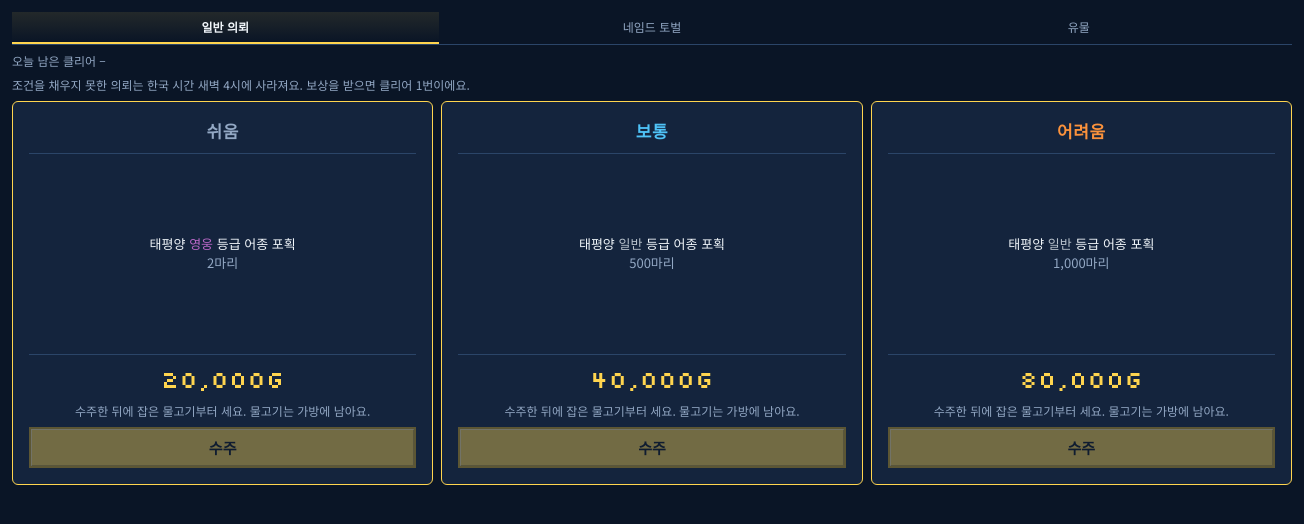
Test: BountyPanel › 흔적(도전권)이 있으면 네임드 카드에 상태 한 줄만 보이고 도전 버튼은 없다 — 도전은 바다에서 치른다
The image size is (1304, 524).
Click the button "네임드 토벌".
click(652, 28)  # box 439,12 -> 865,44
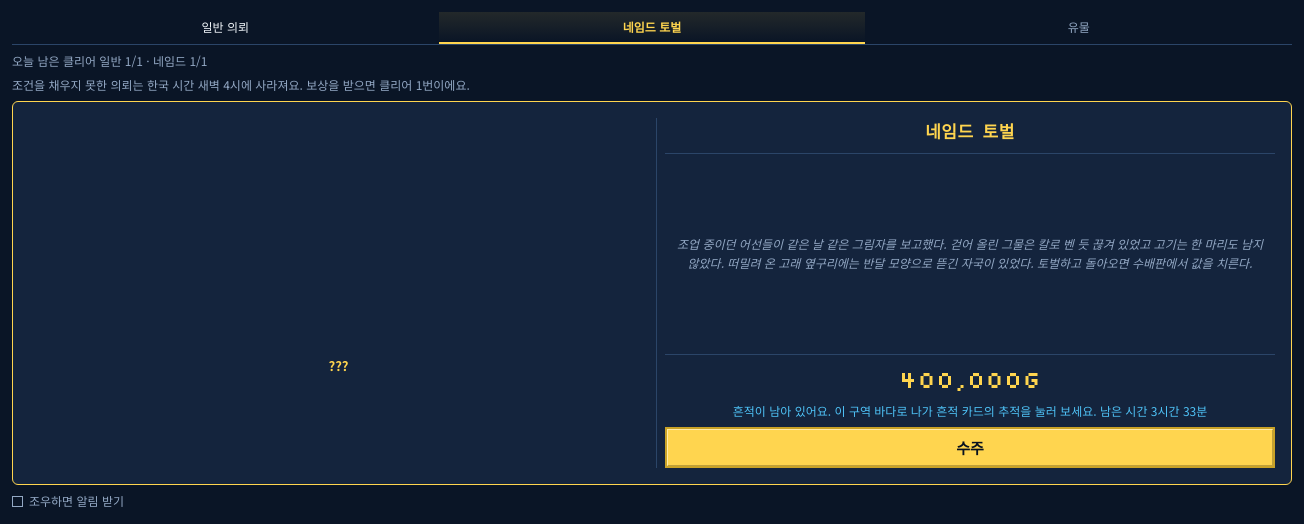
Expected: the text "흔적이 남아 있어요. 이 구역 바다로 나가 흔적 카드의 추적을 눌러 보세요. 남은 시간 3시간 33분" is shown, 733,402 -> 1207,419
